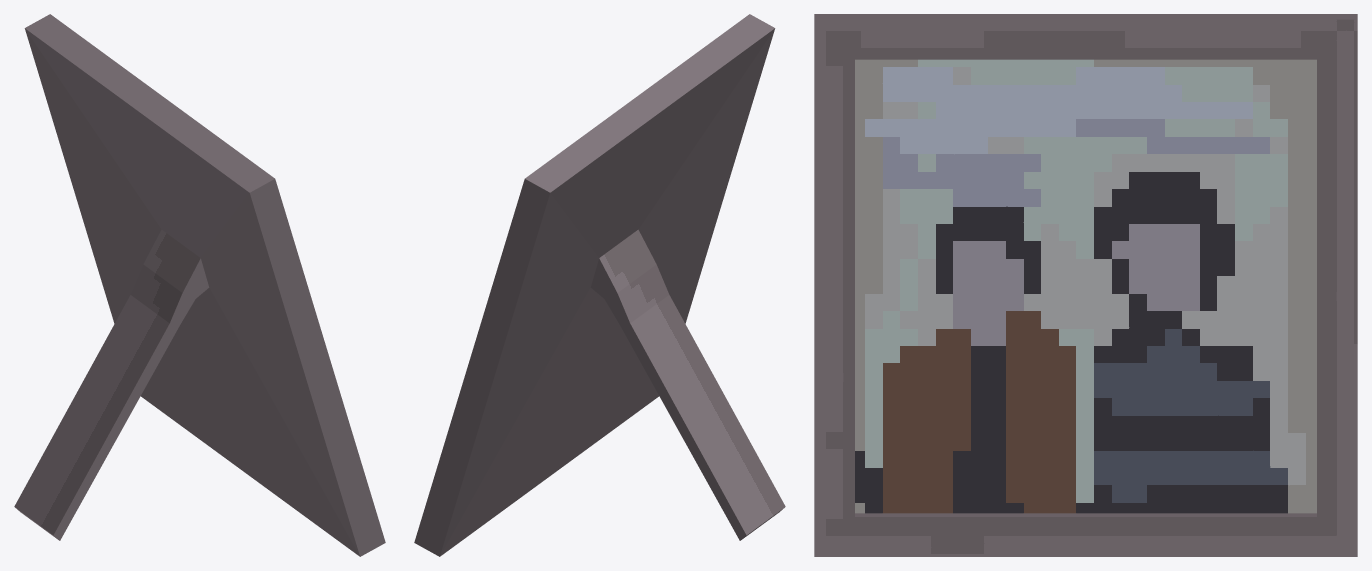
The model's file is picture frame1.fbx.
3 renders of one model, left to right at view 1: azimuth 30°, elevation 25°; view 2: azimuth 150°, elevation 25°; view 3: azimuth 270°, elevation 25°, orthographic. The views are drawn at different scales.
Visible parts, largest first — view 1: Cube.004; view 2: Cube.004; view 3: Cube.004.
Part boxes in pixels (x1,y1,x2,y2): Cube.004: (14, 14, 385, 556); Cube.004: (414, 14, 785, 556); Cube.004: (814, 14, 1357, 556).
Size of the model in its own units: 276 by 441 by 449.
Materials: 1 (1 with a texture image).
